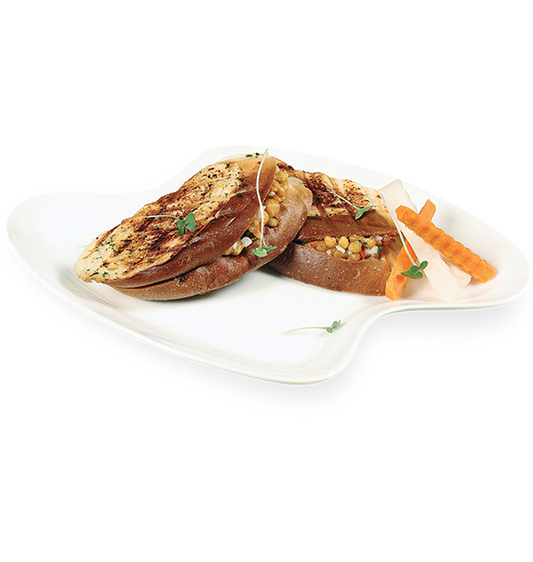slice of bread: (84, 176, 303, 301), (270, 159, 417, 294)
